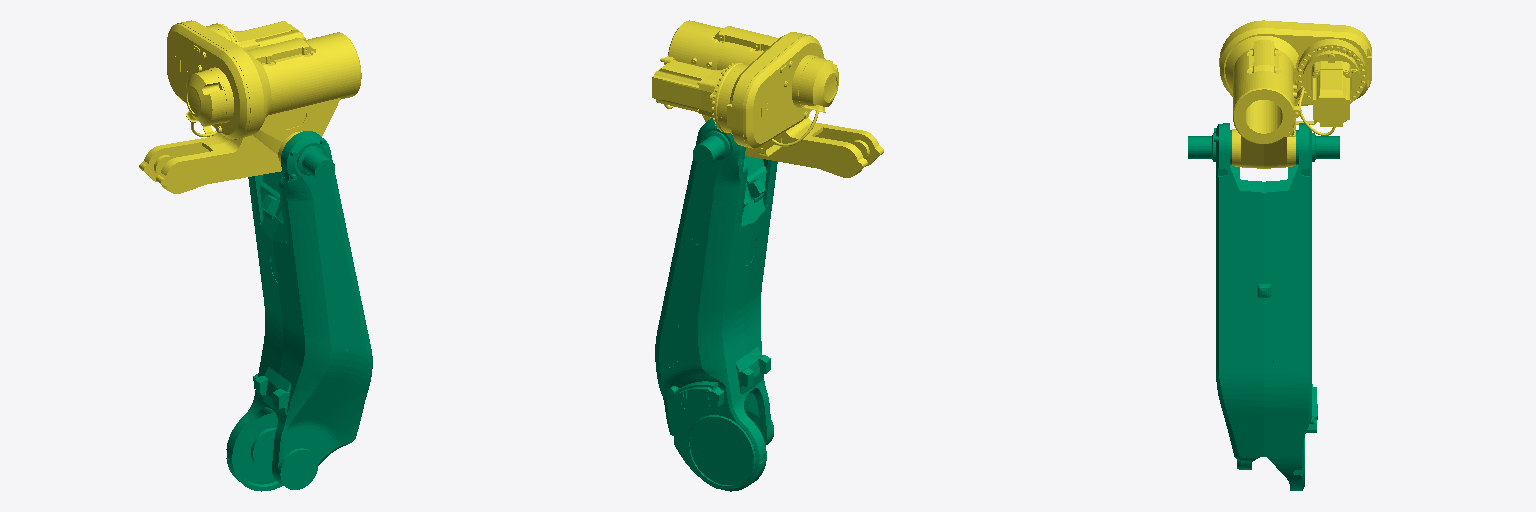
The robot description file, URDF, robot "IRB8700_550-420-SW6":
<?xml version="1.0" ?>
<robot name="IRB8700_550-420-SW6">

<link name="base_link">
  <inertial>
    <origin xyz="-0.08037184969585716 0.0006300808261457967 0.15332267644640482" rpy="0 0 0"/>
    <mass value="1505.6521038393914"/>
    <inertia ixx="76.523178" iyy="124.443069" izz="174.383681" ixy="0.159184" iyz="-0.066316" ixz="-5.164151"/>
  </inertial>
  <visual>
    <origin xyz="0 0 0" rpy="0 0 0"/>
    <geometry>
      <mesh filename="package://IRB8700_550-420-SW6_description/meshes/base_link.stl" scale="0.001 0.001 0.001"/>
    </geometry>
    <material name="silver"/>
  </visual>
  <collision>
    <origin xyz="0 0 0" rpy="0 0 0"/>
    <geometry>
      <mesh filename="package://IRB8700_550-420-SW6_description/meshes/base_link.stl" scale="0.001 0.001 0.001"/>
    </geometry>
  </collision>
</link>

<link name="IRB8700-SW6_550-420_IRC5_rev00_LINK1_CAD_v1_1">
  <inertial>
    <origin xyz="0.30364505280838955 -0.0018357799370513142 0.5157165485900264" rpy="0 0 0"/>
    <mass value="1785.9186850506833"/>
    <inertia ixx="319.960777" iyy="204.24516" izz="276.794643" ixy="0.482677" iyz="6.821785" ixz="-58.562622"/>
  </inertial>
  <visual>
    <origin xyz="0.0 -0.0 -0.300337" rpy="0 0 0"/>
    <geometry>
      <mesh filename="package://IRB8700_550-420-SW6_description/meshes/IRB8700-SW6_550-420_IRC5_rev00_LINK1_CAD_v1_1.stl" scale="0.001 0.001 0.001"/>
    </geometry>
    <material name="silver"/>
  </visual>
  <collision>
    <origin xyz="0.0 -0.0 -0.300337" rpy="0 0 0"/>
    <geometry>
      <mesh filename="package://IRB8700_550-420-SW6_description/meshes/IRB8700-SW6_550-420_IRC5_rev00_LINK1_CAD_v1_1.stl" scale="0.001 0.001 0.001"/>
    </geometry>
  </collision>
</link>

<link name="IRB8700-SW6_550-420_IRC5_rev00_LINK2_CAD_v1_1">
  <inertial>
    <origin xyz="0.1193738222891802 -0.1947103899770624 0.7303852208694914" rpy="0 0 0"/>
    <mass value="1443.4541146557397"/>
    <inertia ixx="283.515678" iyy="273.52004" izz="40.693426" ixy="0.50972" iyz="10.053071" ixz="15.357031"/>
  </inertial>
  <visual>
    <origin xyz="-0.42 -0.207 -1.0" rpy="0 0 0"/>
    <geometry>
      <mesh filename="package://IRB8700_550-420-SW6_description/meshes/IRB8700-SW6_550-420_IRC5_rev00_LINK2_CAD_v1_1.stl" scale="0.001 0.001 0.001"/>
    </geometry>
    <material name="silver"/>
  </visual>
  <collision>
    <origin xyz="-0.42 -0.207 -1.0" rpy="0 0 0"/>
    <geometry>
      <mesh filename="package://IRB8700_550-420-SW6_description/meshes/IRB8700-SW6_550-420_IRC5_rev00_LINK2_CAD_v1_1.stl" scale="0.001 0.001 0.001"/>
    </geometry>
  </collision>
</link>

<link name="IRB8700-SW6_550-420_IRC5_rev00_LINK3_CAD_v1_1">
  <inertial>
    <origin xyz="-0.13074491407877226 -0.26408107026127936 0.23397324999694247" rpy="0 0 0"/>
    <mass value="867.5203145831158"/>
    <inertia ixx="45.096822" iyy="53.006314" izz="58.494954" ixy="1.118886" iyz="-6.435807" ixz="-1.22999"/>
  </inertial>
  <visual>
    <origin xyz="-0.42 -0.363 -2.58" rpy="0 0 0"/>
    <geometry>
      <mesh filename="package://IRB8700_550-420-SW6_description/meshes/IRB8700-SW6_550-420_IRC5_rev00_LINK3_CAD_v1_1.stl" scale="0.001 0.001 0.001"/>
    </geometry>
    <material name="silver"/>
  </visual>
  <collision>
    <origin xyz="-0.42 -0.363 -2.58" rpy="0 0 0"/>
    <geometry>
      <mesh filename="package://IRB8700_550-420-SW6_description/meshes/IRB8700-SW6_550-420_IRC5_rev00_LINK3_CAD_v1_1.stl" scale="0.001 0.001 0.001"/>
    </geometry>
  </collision>
</link>

<link name="IRB8700-SW6_550-420_IRC5_rev00_LINK4_CAD_v1_1">
  <inertial>
    <origin xyz="1.0698119912815947 -0.02493925429433697 1.7061256211814424e-05" rpy="0 0 0"/>
    <mass value="1308.380613271277"/>
    <inertia ixx="36.649692" iyy="598.423459" izz="617.541576" ixy="22.117394" iyz="0.00502" ixz="-0.015097"/>
  </inertial>
  <visual>
    <origin xyz="-0.764558 0.0 -2.89" rpy="0 0 0"/>
    <geometry>
      <mesh filename="package://IRB8700_550-420-SW6_description/meshes/IRB8700-SW6_550-420_IRC5_rev00_LINK4_CAD_v1_1.stl" scale="0.001 0.001 0.001"/>
    </geometry>
    <material name="silver"/>
  </visual>
  <collision>
    <origin xyz="-0.764558 0.0 -2.89" rpy="0 0 0"/>
    <geometry>
      <mesh filename="package://IRB8700_550-420-SW6_description/meshes/IRB8700-SW6_550-420_IRC5_rev00_LINK4_CAD_v1_1.stl" scale="0.001 0.001 0.001"/>
    </geometry>
  </collision>
</link>

<link name="IRB8700-SW6_550-420_IRC5_rev00_LINK5_CAD_v1_1">
  <inertial>
    <origin xyz="0.09285479111715667 -0.14771061757644657 0.00039505544227269596" rpy="0 0 0"/>
    <mass value="168.28947433118324"/>
    <inertia ixx="1.923851" iyy="3.241334" izz="3.578358" ixy="-0.062935" iyz="-0.018635" ixz="-0.021331"/>
  </inertial>
  <visual>
    <origin xyz="-2.595 -0.145 -2.89" rpy="0 0 0"/>
    <geometry>
      <mesh filename="package://IRB8700_550-420-SW6_description/meshes/IRB8700-SW6_550-420_IRC5_rev00_LINK5_CAD_v1_1.stl" scale="0.001 0.001 0.001"/>
    </geometry>
    <material name="silver"/>
  </visual>
  <collision>
    <origin xyz="-2.595 -0.145 -2.89" rpy="0 0 0"/>
    <geometry>
      <mesh filename="package://IRB8700_550-420-SW6_description/meshes/IRB8700-SW6_550-420_IRC5_rev00_LINK5_CAD_v1_1.stl" scale="0.001 0.001 0.001"/>
    </geometry>
  </collision>
</link>

<link name="IRB8700-SW6_550-420_IRC5_rev00_LINK6_CAD_v1_1">
  <inertial>
    <origin xyz="0.12322477036900903 -0.012516747025421437 -0.007347434739773728" rpy="0 0 0"/>
    <mass value="58.82091127859069"/>
    <inertia ixx="0.712153" iyy="0.742128" izz="0.727838" ixy="0.003074" iyz="-0.007147" ixz="-0.005751"/>
  </inertial>
  <visual>
    <origin xyz="-2.8555 -0.0 -2.89" rpy="0 0 0"/>
    <geometry>
      <mesh filename="package://IRB8700_550-420-SW6_description/meshes/IRB8700-SW6_550-420_IRC5_rev00_LINK6_CAD_v1_1.stl" scale="0.001 0.001 0.001"/>
    </geometry>
    <material name="silver"/>
  </visual>
  <collision>
    <origin xyz="-2.8555 -0.0 -2.89" rpy="0 0 0"/>
    <geometry>
      <mesh filename="package://IRB8700_550-420-SW6_description/meshes/IRB8700-SW6_550-420_IRC5_rev00_LINK6_CAD_v1_1.stl" scale="0.001 0.001 0.001"/>
    </geometry>
  </collision>
</link>

<joint name="j1" type="continuous">
  <origin xyz="0.0 0.0 0.300337" rpy="0 0 0"/>
  <parent link="base_link"/>
  <child link="IRB8700-SW6_550-420_IRC5_rev00_LINK1_CAD_v1_1"/>
  <axis xyz="0.0 -0.0 -1.0"/>
</joint>

<joint name="j2" type="continuous">
  <origin xyz="0.42 0.207 0.699663" rpy="0 0 0"/>
  <parent link="IRB8700-SW6_550-420_IRC5_rev00_LINK1_CAD_v1_1"/>
  <child link="IRB8700-SW6_550-420_IRC5_rev00_LINK2_CAD_v1_1"/>
  <axis xyz="0.0 1.0 0.0"/>
</joint>

<joint name="j3" type="continuous">
  <origin xyz="0.0 0.156 1.58" rpy="0 0 0"/>
  <parent link="IRB8700-SW6_550-420_IRC5_rev00_LINK2_CAD_v1_1"/>
  <child link="IRB8700-SW6_550-420_IRC5_rev00_LINK3_CAD_v1_1"/>
  <axis xyz="0.0 1.0 0.0"/>
</joint>

<joint name="j4" type="continuous">
  <origin xyz="0.344558 -0.363 0.31" rpy="0 0 0"/>
  <parent link="IRB8700-SW6_550-420_IRC5_rev00_LINK3_CAD_v1_1"/>
  <child link="IRB8700-SW6_550-420_IRC5_rev00_LINK4_CAD_v1_1"/>
  <axis xyz="1.0 0.0 0.0"/>
</joint>

<joint name="j5" type="continuous">
  <origin xyz="1.830442 0.145 0.0" rpy="0 0 0"/>
  <parent link="IRB8700-SW6_550-420_IRC5_rev00_LINK4_CAD_v1_1"/>
  <child link="IRB8700-SW6_550-420_IRC5_rev00_LINK5_CAD_v1_1"/>
  <axis xyz="0.0 -1.0 0.0"/>
</joint>

<joint name="j6" type="continuous">
  <origin xyz="0.2605 -0.145 0.0" rpy="0 0 0"/>
  <parent link="IRB8700-SW6_550-420_IRC5_rev00_LINK5_CAD_v1_1"/>
  <child link="IRB8700-SW6_550-420_IRC5_rev00_LINK6_CAD_v1_1"/>
  <axis xyz="1.0 0.0 0.0"/>
</joint>

</robot>

--- What the picture shows (computed from the rendered views, not written in the file) ---
3 views of the same robot in one strip: view 1: azimuth 30°, elevation 25°; view 2: azimuth 150°, elevation 25°; view 3: azimuth 270°, elevation 25° (orthographic).
Model IRB8700_550-420-SW6 with 7 links and 6 joints (6 continuous), rooted at base_link, posed every joint at zero.
Links seen in each view (by area): view 1: IRB8700-SW6_550-420_IRC5_rev00_LINK2_CAD_v1_1, IRB8700-SW6_550-420_IRC5_rev00_LINK3_CAD_v1_1; view 2: IRB8700-SW6_550-420_IRC5_rev00_LINK2_CAD_v1_1, IRB8700-SW6_550-420_IRC5_rev00_LINK3_CAD_v1_1; view 3: IRB8700-SW6_550-420_IRC5_rev00_LINK2_CAD_v1_1, IRB8700-SW6_550-420_IRC5_rev00_LINK3_CAD_v1_1.
Link boxes in pixels (x1,y1,x2,y2): IRB8700-SW6_550-420_IRC5_rev00_LINK2_CAD_v1_1: (226,131,372,491); IRB8700-SW6_550-420_IRC5_rev00_LINK3_CAD_v1_1: (139,20,361,193); IRB8700-SW6_550-420_IRC5_rev00_LINK2_CAD_v1_1: (655,118,777,491); IRB8700-SW6_550-420_IRC5_rev00_LINK3_CAD_v1_1: (652,20,883,177); IRB8700-SW6_550-420_IRC5_rev00_LINK2_CAD_v1_1: (1188,123,1339,490); IRB8700-SW6_550-420_IRC5_rev00_LINK3_CAD_v1_1: (1219,20,1371,168).
Bounding box of the posed robot: 1.05 × 0.878 × 2.31 m (x, y, z).
Meshes: 7 distinct files referenced, 2 mesh visuals loaded (2 binary STL); not drawn: 5 (reference not matched to a file when rendering).